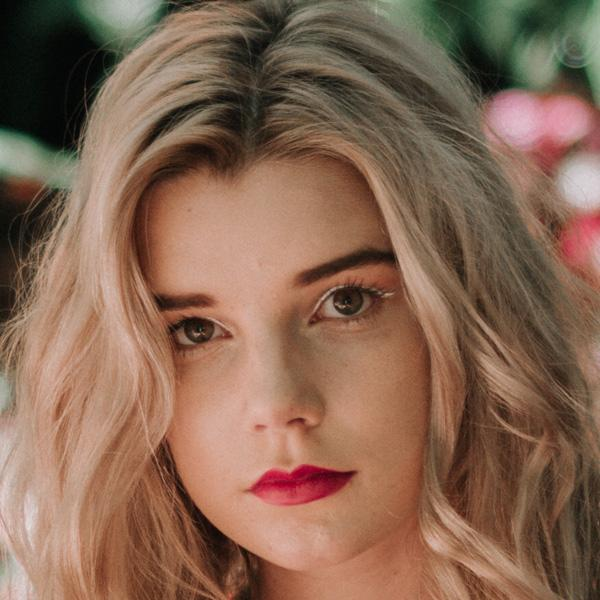Eyes: (300, 274, 395, 332), (156, 308, 240, 361)
